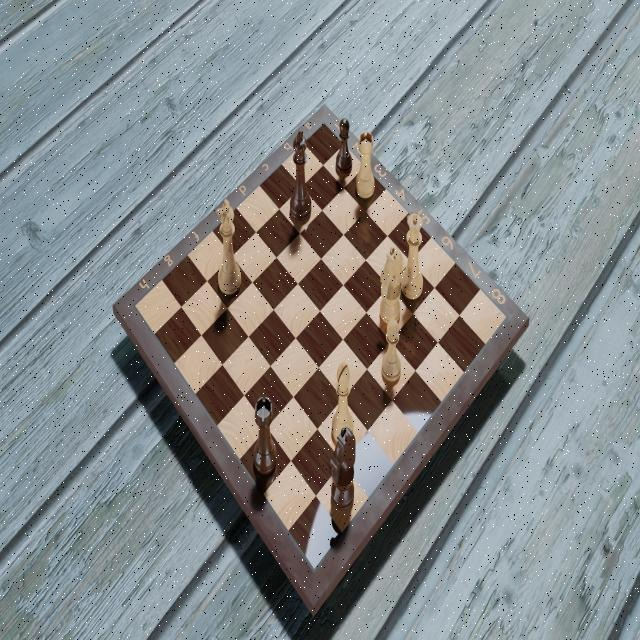black-king: (286, 126, 313, 225)
black-knight: (329, 423, 359, 513)
black-pawn: (333, 118, 354, 178)
black-rook: (250, 394, 278, 479)
white-bishop: (329, 362, 354, 442)
white-king: (214, 198, 243, 300)
white-knight: (380, 244, 406, 332)
white-pawn: (379, 317, 407, 390)
white-queen: (398, 206, 425, 305)
white-rook: (356, 131, 378, 201)
